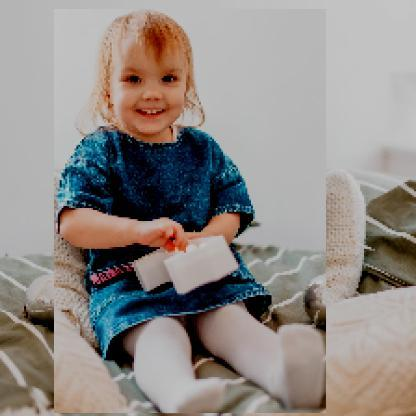child: (55, 10, 328, 415)
